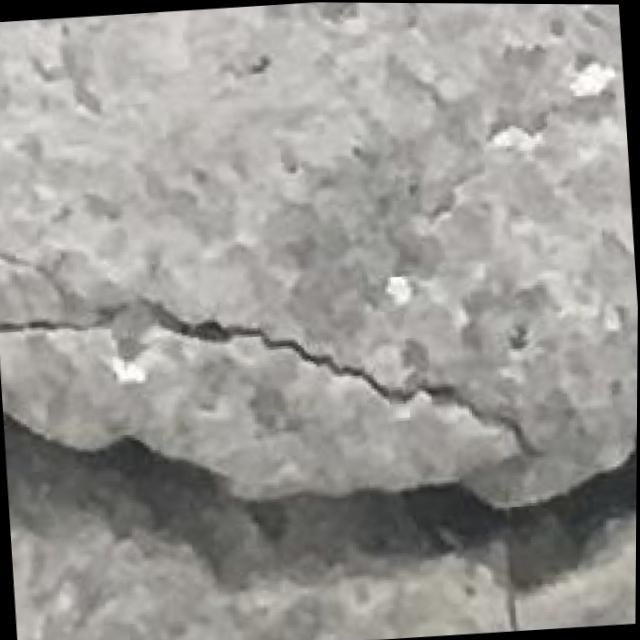Crack: (4, 358, 638, 640), (0, 212, 559, 506)
